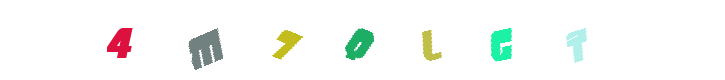4: (81, 0, 161, 80)
7: (308, 0, 388, 80)
G: (461, 0, 541, 80)
L: (324, 0, 404, 80)
M: (167, 0, 247, 80)
Q: (319, 0, 399, 80)
T: (481, 0, 561, 80)
